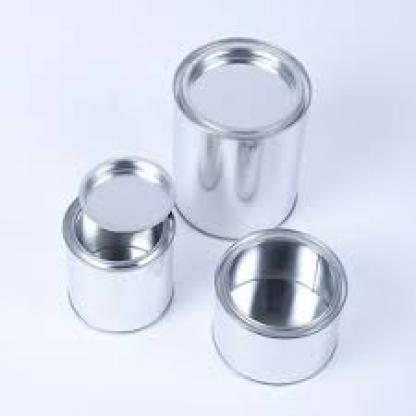METAL: (170, 37, 309, 237), (207, 226, 346, 384), (61, 194, 172, 333), (74, 157, 172, 229)
